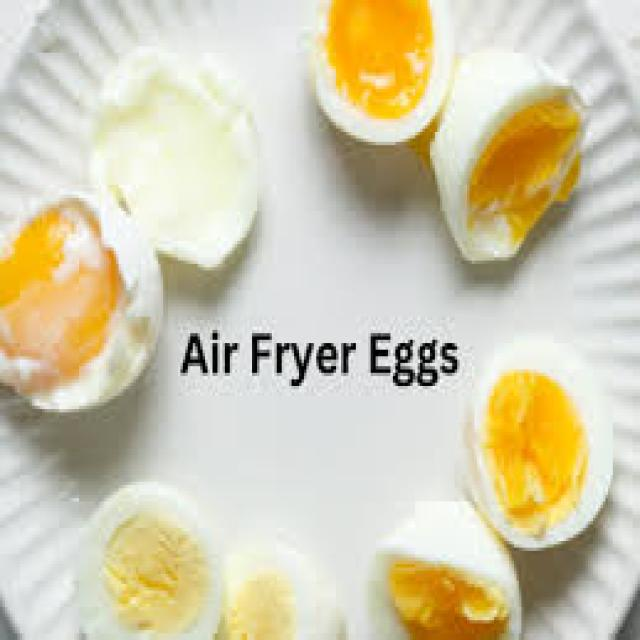boiled egg: (89, 50, 259, 270), (0, 192, 163, 412), (430, 50, 585, 263), (465, 337, 612, 550), (369, 502, 521, 639), (312, 0, 454, 145)
